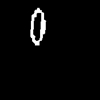chain: (31, 8, 45, 44)
